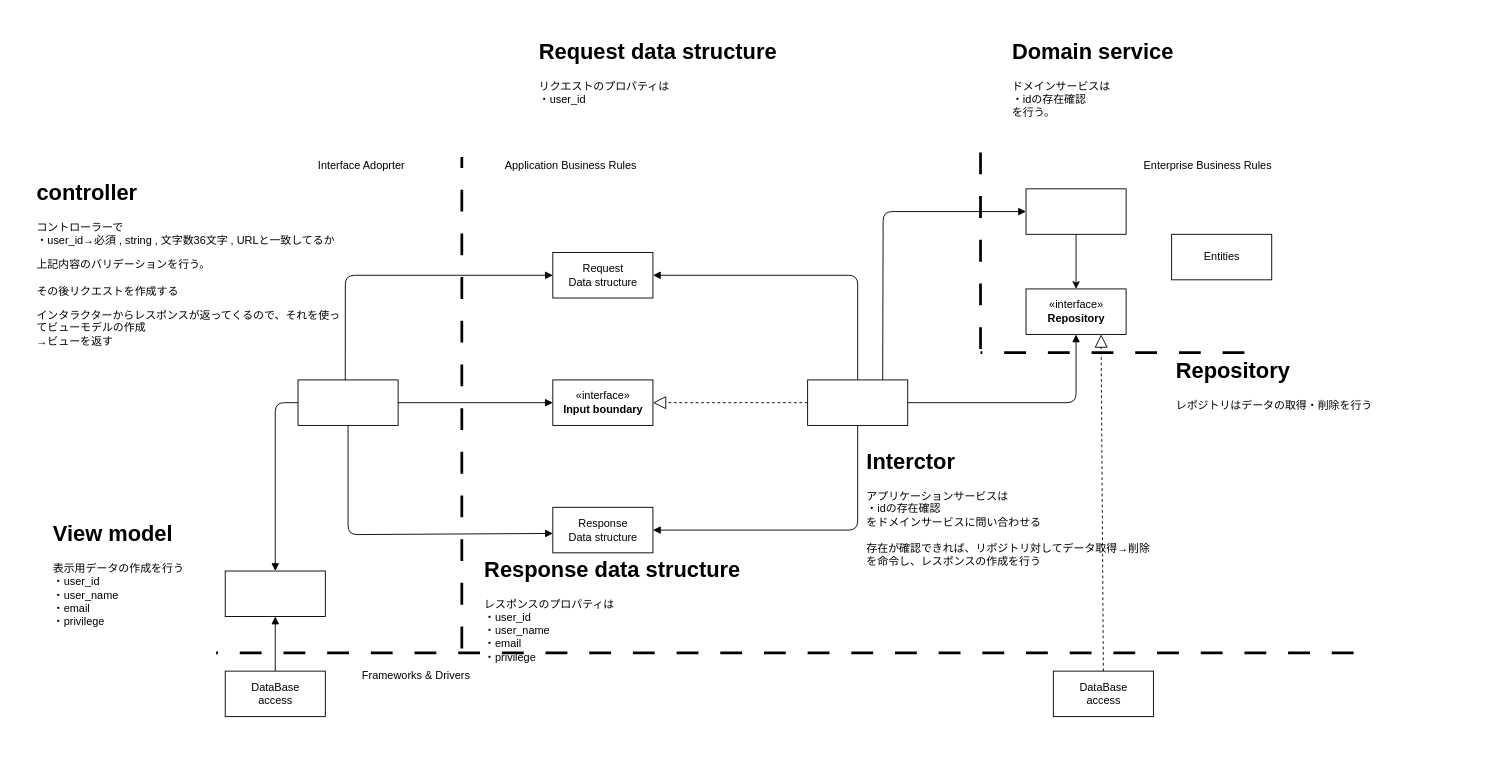
This 1487x759 diagram has some shape labels left out. Each missing label, with the box of its shape:
Controller: (297, 379, 398, 425)
Domain Service: (1025, 188, 1126, 234)
ViewModel Data structure: (224, 570, 325, 617)
«interface» Create UseCase: (807, 379, 908, 425)
